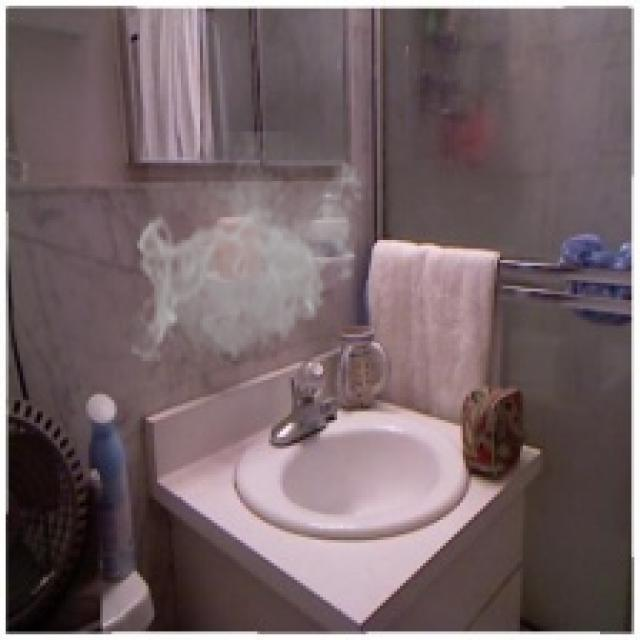Smoke: (132, 132, 368, 368)
